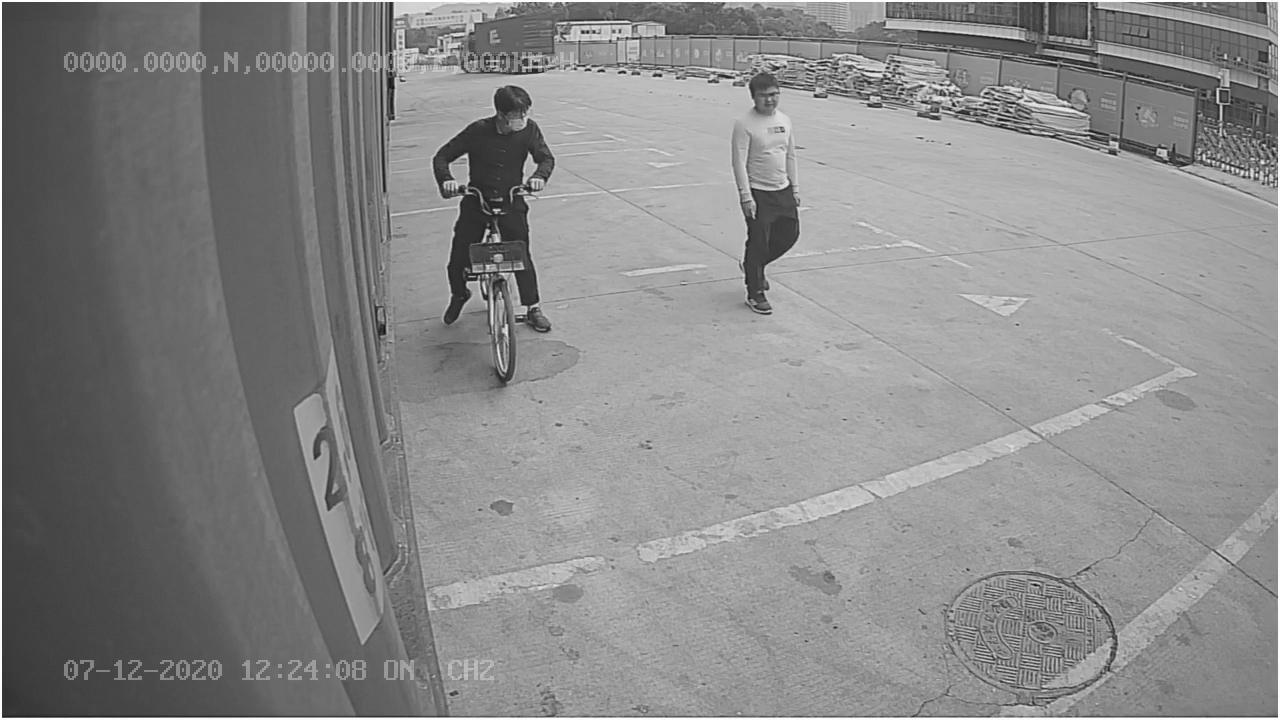person: (729, 67, 807, 315)
